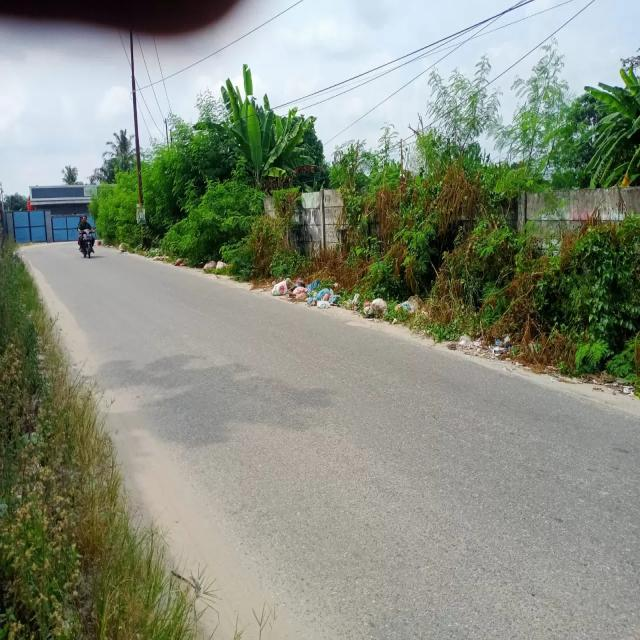trash: (266, 239, 529, 380)
